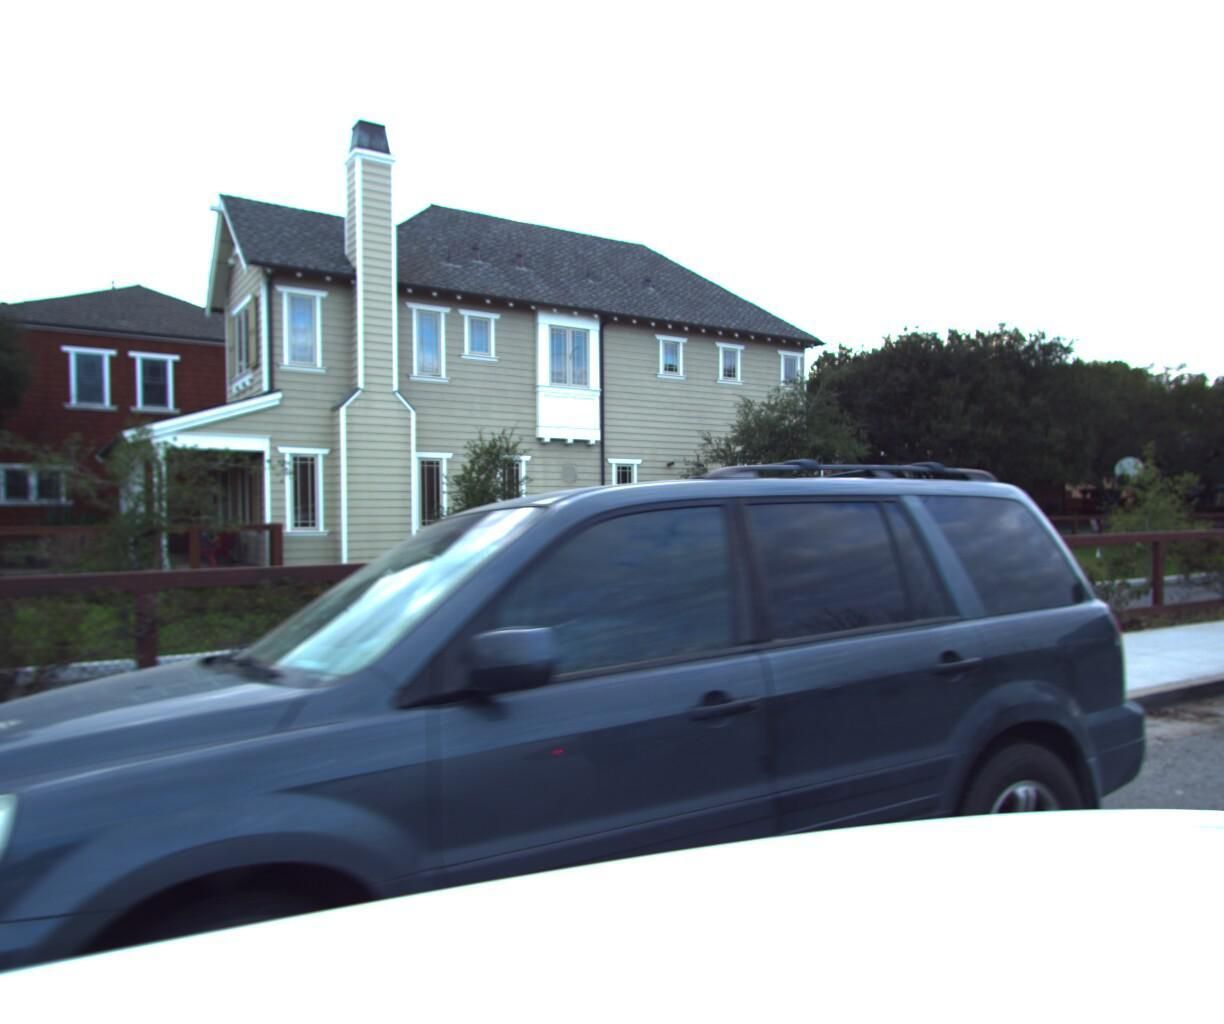car: (0, 345, 1195, 1024), (1205, 514, 1224, 790)
